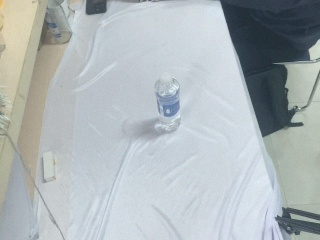bottle: (154, 72, 181, 134), (45, 1, 73, 45)
